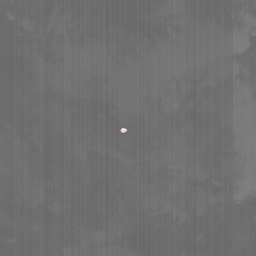Target: (119, 127, 128, 133)
